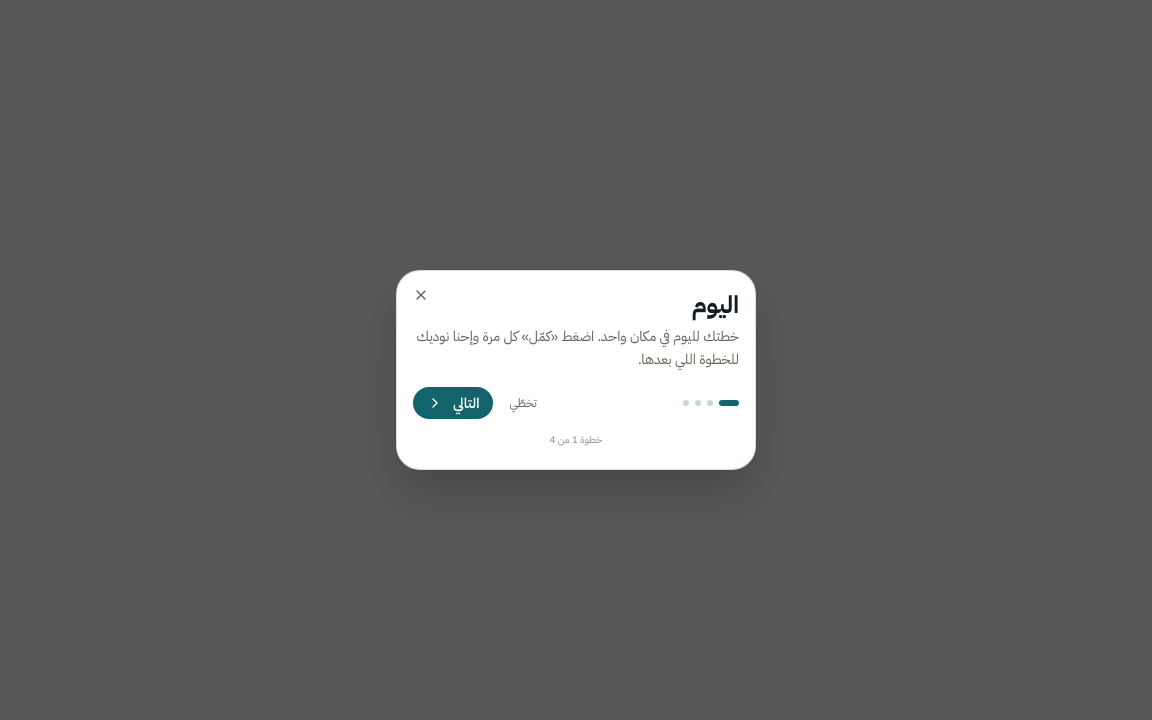
Test case: highlighting the target › still walks through all four steps with nothing to point at
Click the button "التالي": click(453, 403) [413, 387, 493, 419]
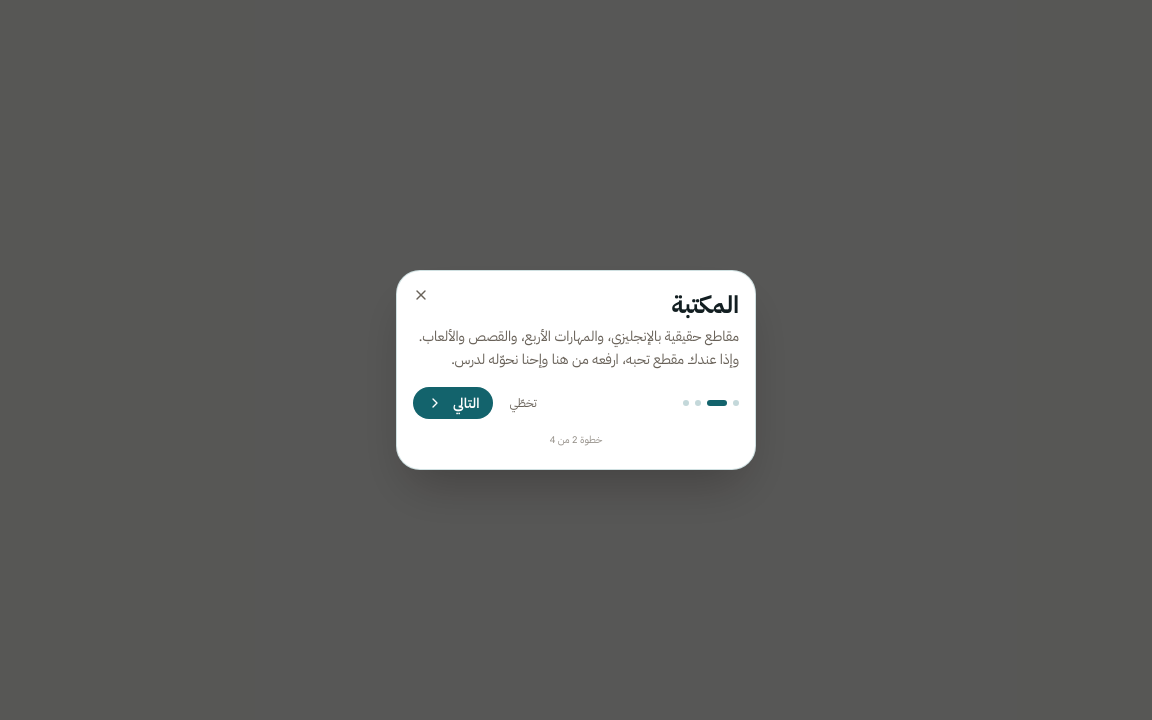
Click the button "التالي": click(453, 403) [413, 387, 493, 419]
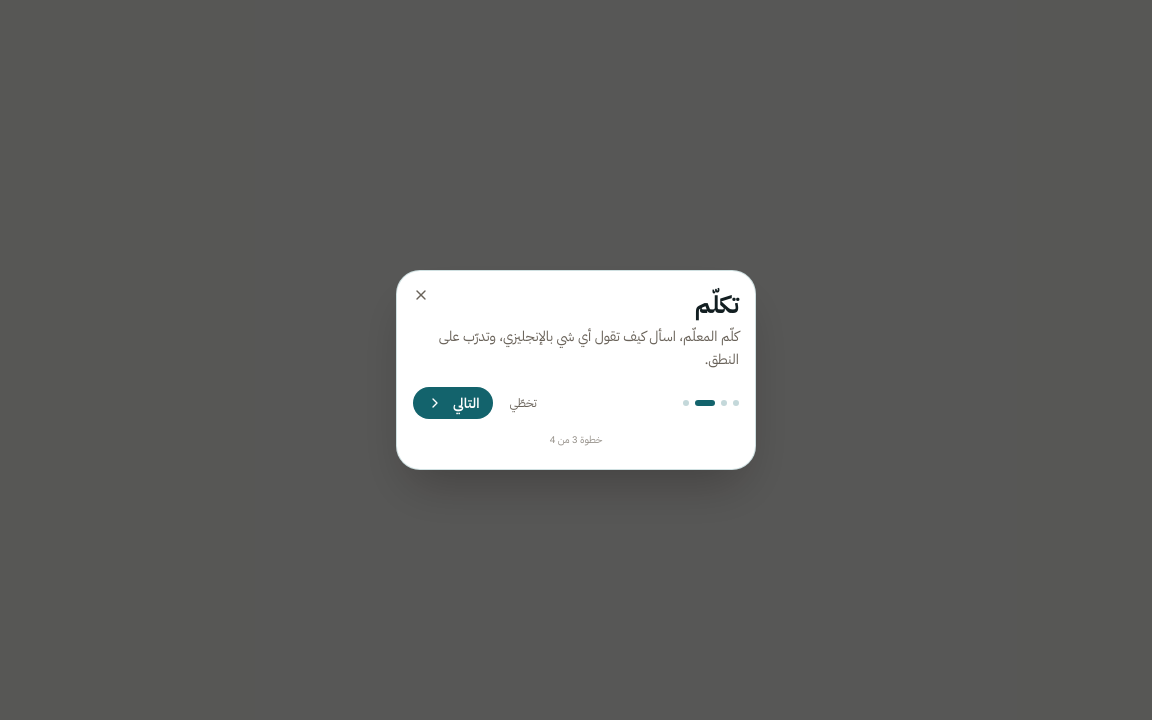
Click the button "التالي": click(453, 403) [413, 387, 493, 419]
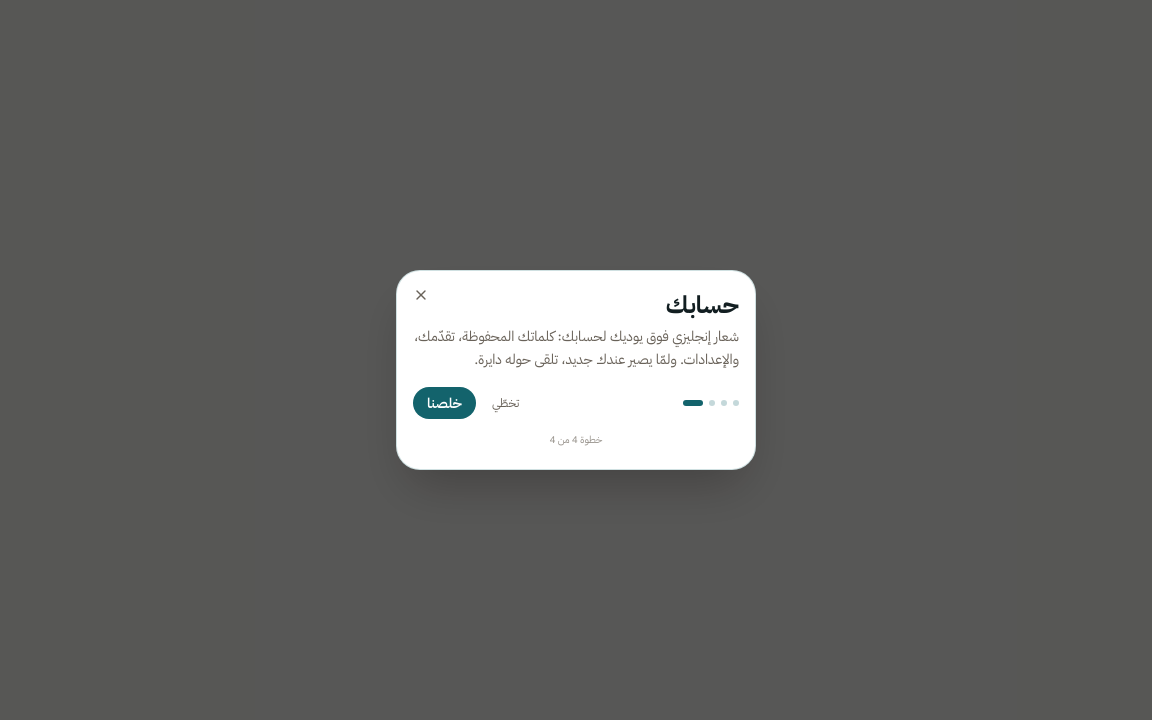
Expected: the heading "حسابك" is shown, [666, 287, 739, 321]
